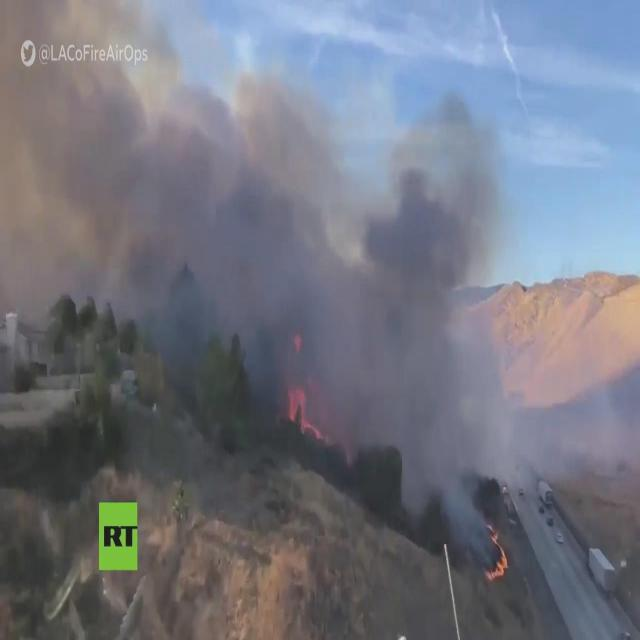Fire: (283, 385, 325, 443), (482, 522, 509, 584)
Smoke: (0, 2, 501, 292), (327, 292, 510, 441), (124, 300, 334, 374), (404, 450, 489, 544)
